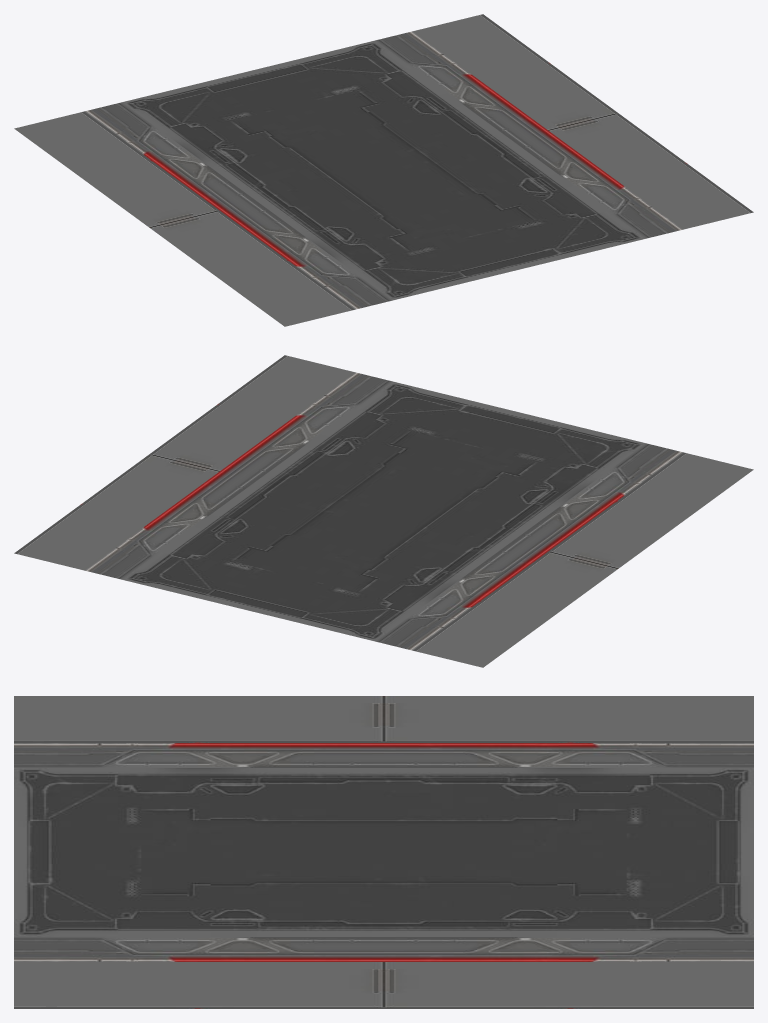
Rendered from sf_floor_center.glb.
3 renders of one model, top to bottom at view 1: azimuth 30°, elevation 25°; view 2: azimuth 150°, elevation 25°; view 3: azimuth 270°, elevation 25°, orthographic. The views are drawn at different scales.
Visible parts, largest first — view 1: Platform_CenterPlate; view 2: Platform_CenterPlate; view 3: Platform_CenterPlate.
Part boxes in pixels (x1,y1,x2,y2): Platform_CenterPlate: (14, 14, 753, 326); Platform_CenterPlate: (14, 355, 753, 667); Platform_CenterPlate: (14, 696, 753, 1008).
Bounding box in the file's own units: 4 × 2.84e-14 × 4.
2 materials, 2 textured.
